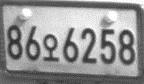2: (80, 27, 97, 65)
5: (99, 28, 116, 64)
6: (62, 27, 79, 63), (25, 25, 41, 60)
8: (117, 28, 136, 65), (6, 24, 23, 59)
오: (42, 34, 59, 62)
